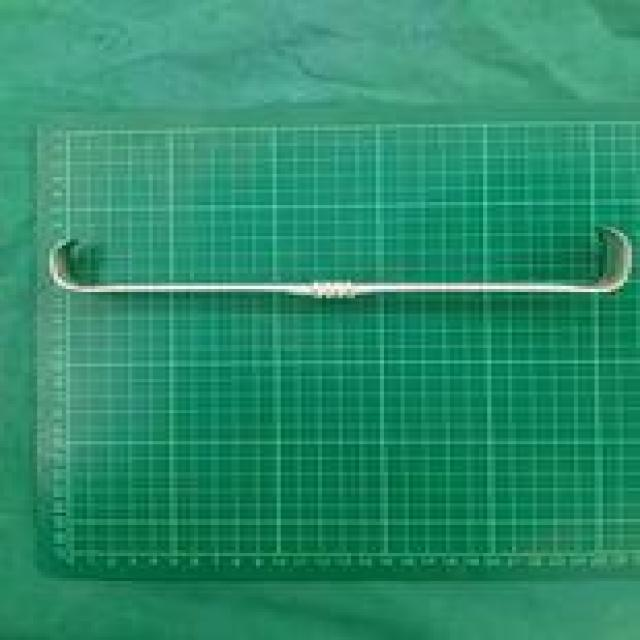Richardson: (45, 220, 640, 308)
